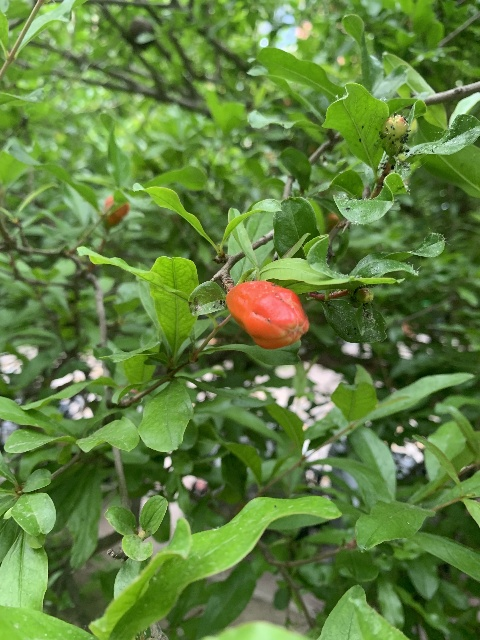bud: (226, 280, 309, 350), (380, 115, 409, 156)
